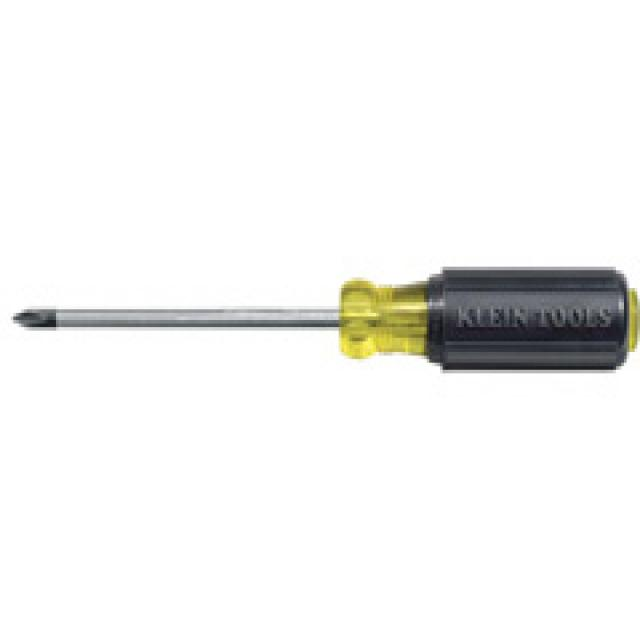Screwdriver: (14, 268, 640, 368)
